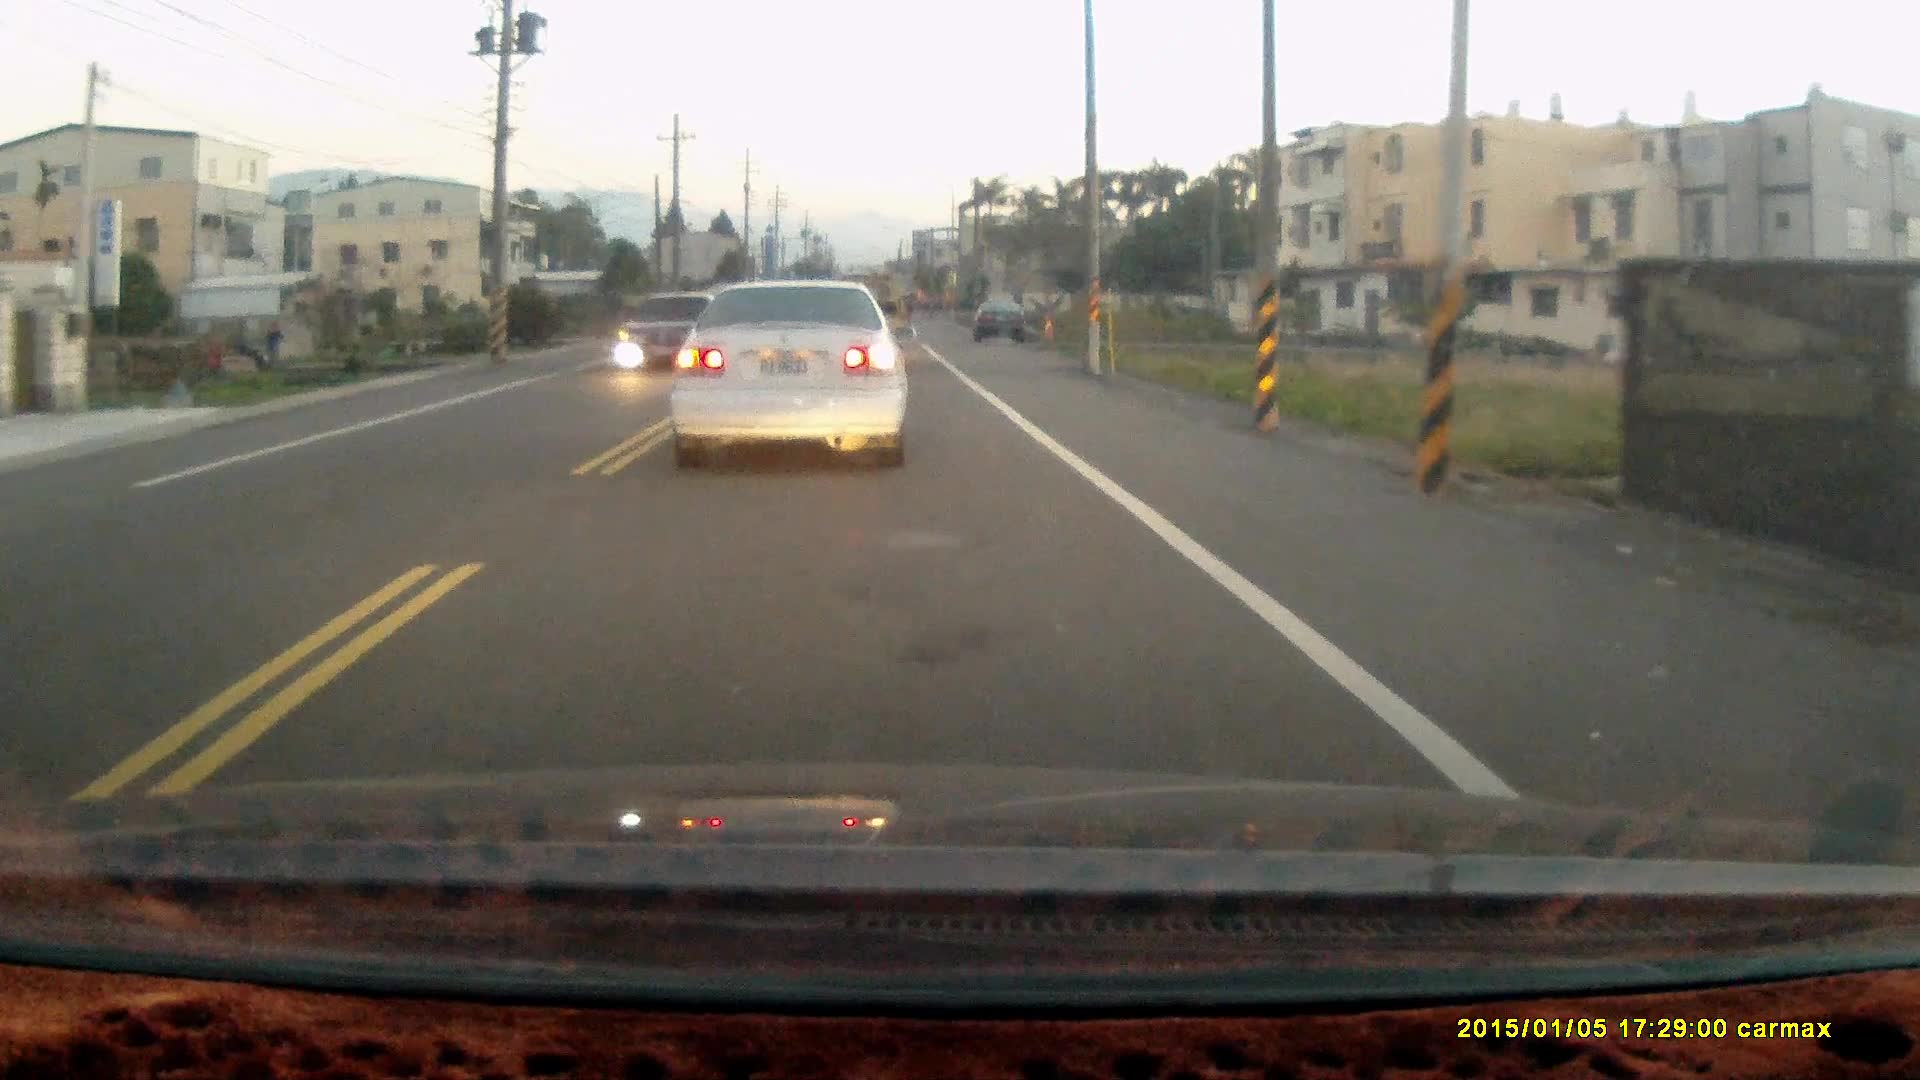pedestrian: (203, 340, 225, 385), (262, 318, 282, 367)
vehicle: (670, 279, 912, 472), (617, 290, 706, 379), (974, 300, 1036, 346)
